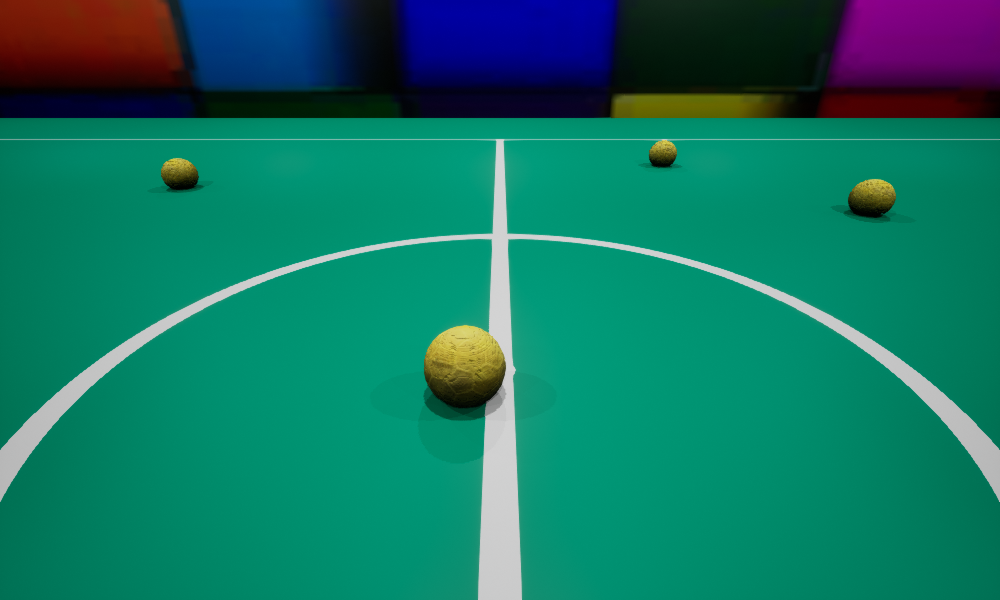b: (424, 325, 505, 406), (848, 179, 895, 216), (161, 158, 198, 189), (649, 140, 676, 166)
